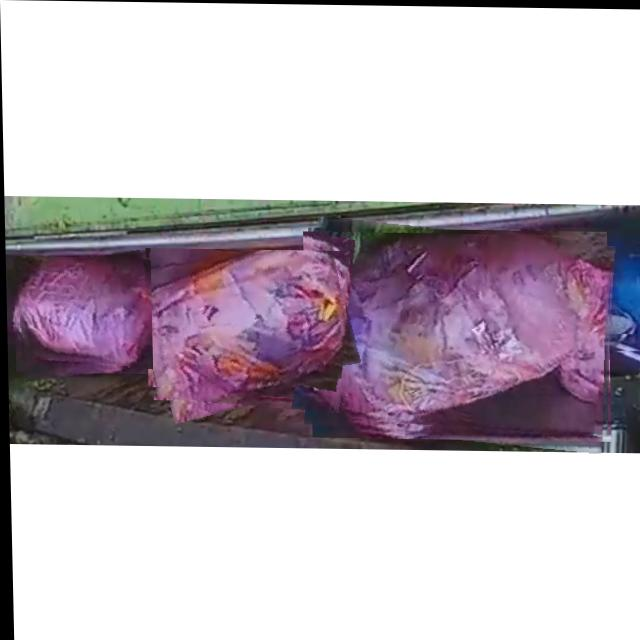other_trashbag: (304, 232, 609, 425), (146, 249, 344, 404), (15, 258, 150, 366)
